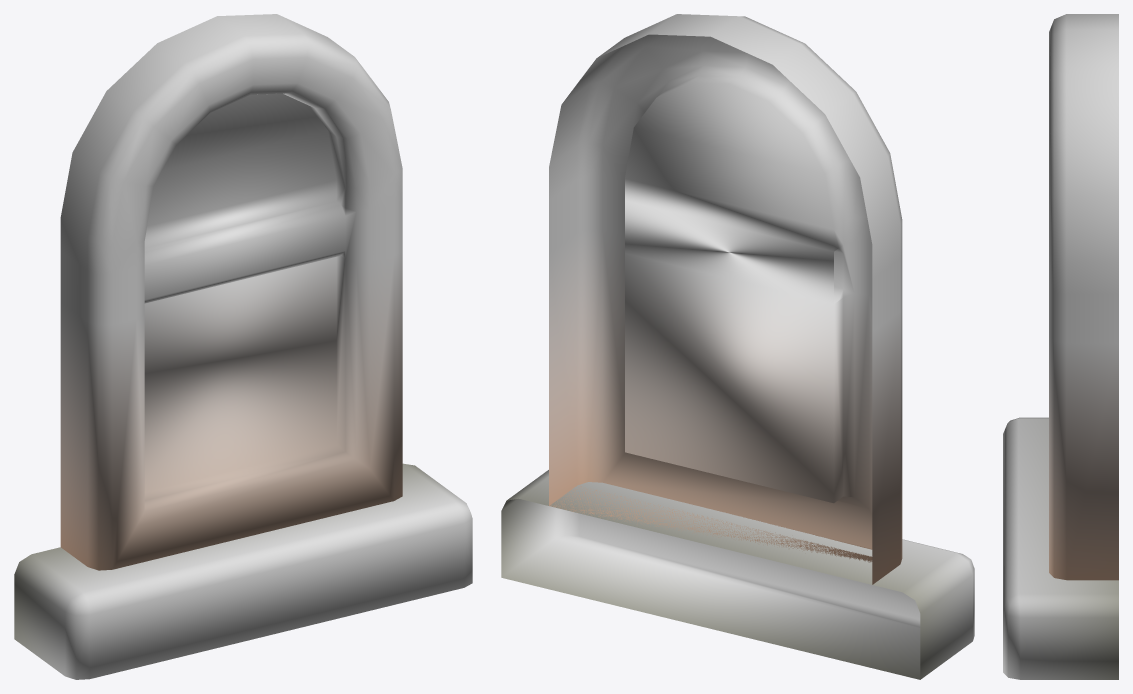
File: Window_002.fbx
3 renders of one model, left to right at view 1: azimuth 30°, elevation 25°; view 2: azimuth 150°, elevation 25°; view 3: azimuth 270°, elevation 25°, orthographic. The views are drawn at different scales.
Visible parts, largest first — view 1: Window_002; view 2: Window_002; view 3: Window_002.
Boxes of the visible parts, x1,y1,x2,y2 form: Window_002: (14, 14, 472, 679); Window_002: (501, 14, 974, 679); Window_002: (1003, 14, 1118, 679).
Size of the model in its own units: 130 by 33.16 by 175.
